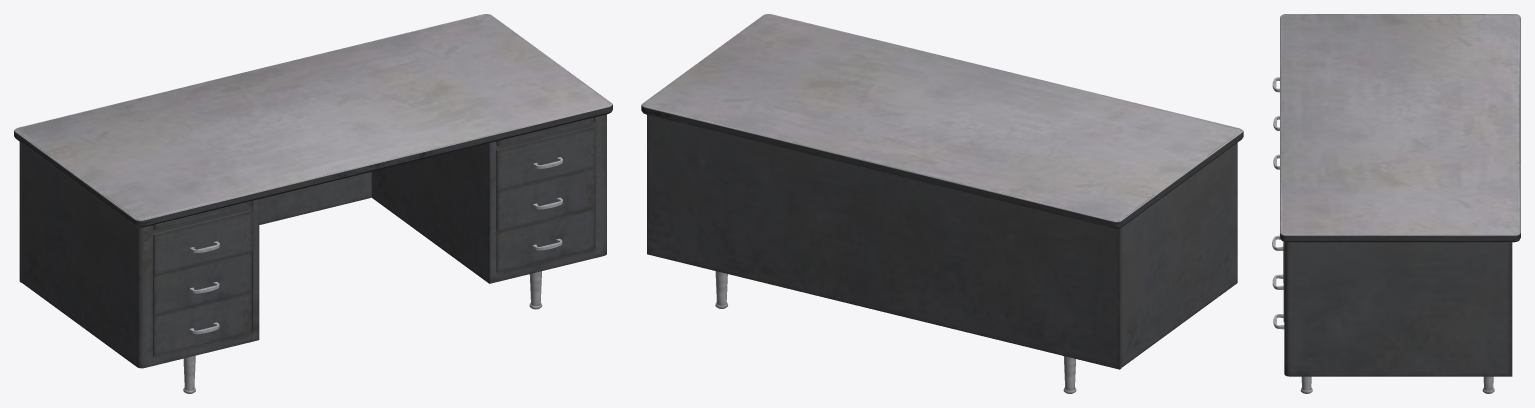
The model's file is teacher-desk.glb.
The picture shows the model from 3 angles, left to right: view 1: azimuth 30°, elevation 25°; view 2: azimuth 150°, elevation 25°; view 3: azimuth 270°, elevation 25°; orthographic projection. The views are drawn at different scales.
Visible parts, largest first — view 1: metal_office_desk, metal_office_desk_drawer_04, metal_office_desk_drawer_01, metal_office_desk_drawer_02, metal_office_desk_drawer_03, metal_office_desk_drawer_06, metal_office_desk_drawer_05, metal_office_desk_tray_01, metal_office_desk_tray_02; view 2: metal_office_desk; view 3: metal_office_desk.
Part boxes in pixels (<box>): metal_office_desk: <box>14,14,612,393</box>; metal_office_desk_drawer_04: <box>153,210,252,275</box>; metal_office_desk_drawer_01: <box>496,126,595,191</box>; metal_office_desk_drawer_02: <box>496,167,595,231</box>; metal_office_desk_drawer_03: <box>496,208,594,272</box>; metal_office_desk_drawer_06: <box>153,292,251,356</box>; metal_office_desk_drawer_05: <box>153,252,251,315</box>; metal_office_desk_tray_01: <box>153,201,251,230</box>; metal_office_desk_tray_02: <box>496,117,594,146</box>; metal_office_desk: <box>641,14,1243,393</box>; metal_office_desk: <box>1280,14,1520,393</box>.
Bounding box in the file's own units: 2 × 0.7875 × 0.9472.
Materials: 1 (1 with a texture image).
